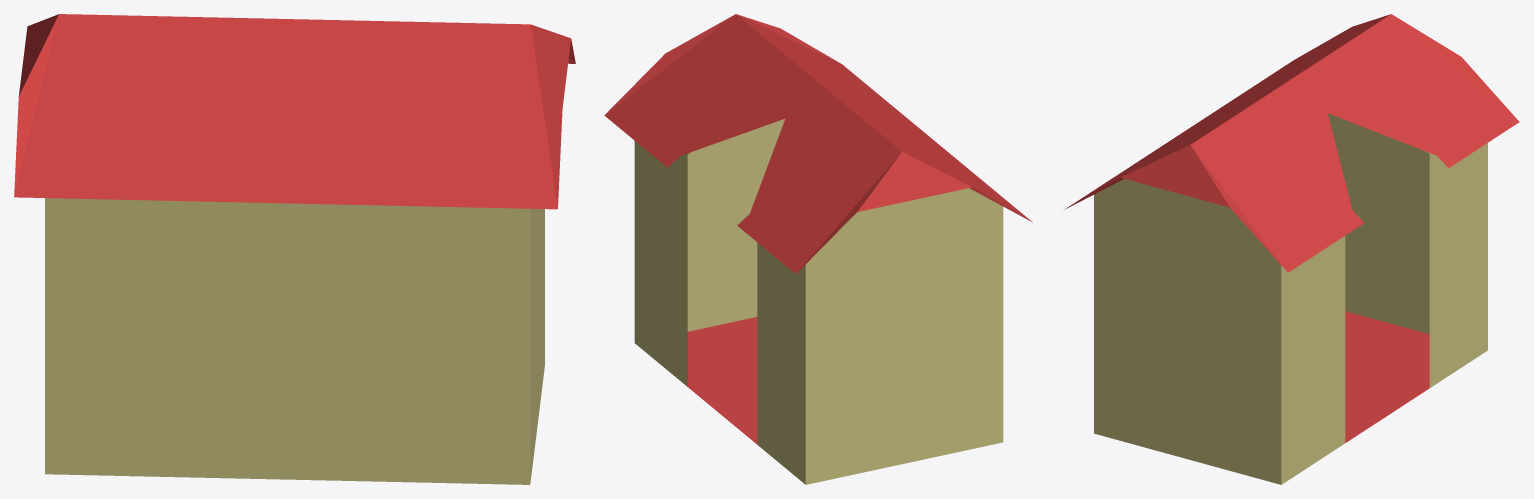
3 renders of one model, left to right at view 1: azimuth 30°, elevation 25°; view 2: azimuth 150°, elevation 25°; view 3: azimuth 270°, elevation 25°, orthographic. The views are drawn at different scales.
Visible parts, largest first — view 1: group_5, group_3; view 2: group_5, group_3, group_6, group_4; view 3: group_5, group_3, group_6, group_4.
Part boxes in pixels (bbox=[...]): group_5: bbox=[45, 198, 544, 484]; group_3: bbox=[14, 14, 575, 209]; group_5: bbox=[634, 119, 1003, 484]; group_3: bbox=[604, 14, 1032, 273]; group_6: bbox=[687, 317, 757, 444]; group_4: bbox=[606, 46, 788, 239]; group_5: bbox=[1094, 113, 1487, 484]; group_3: bbox=[1064, 14, 1519, 272]; group_6: bbox=[1345, 311, 1429, 442]; group_4: bbox=[1224, 118, 1479, 271].
Bounding box in the file's own units: 22.03 × 20.02 × 15.1.
